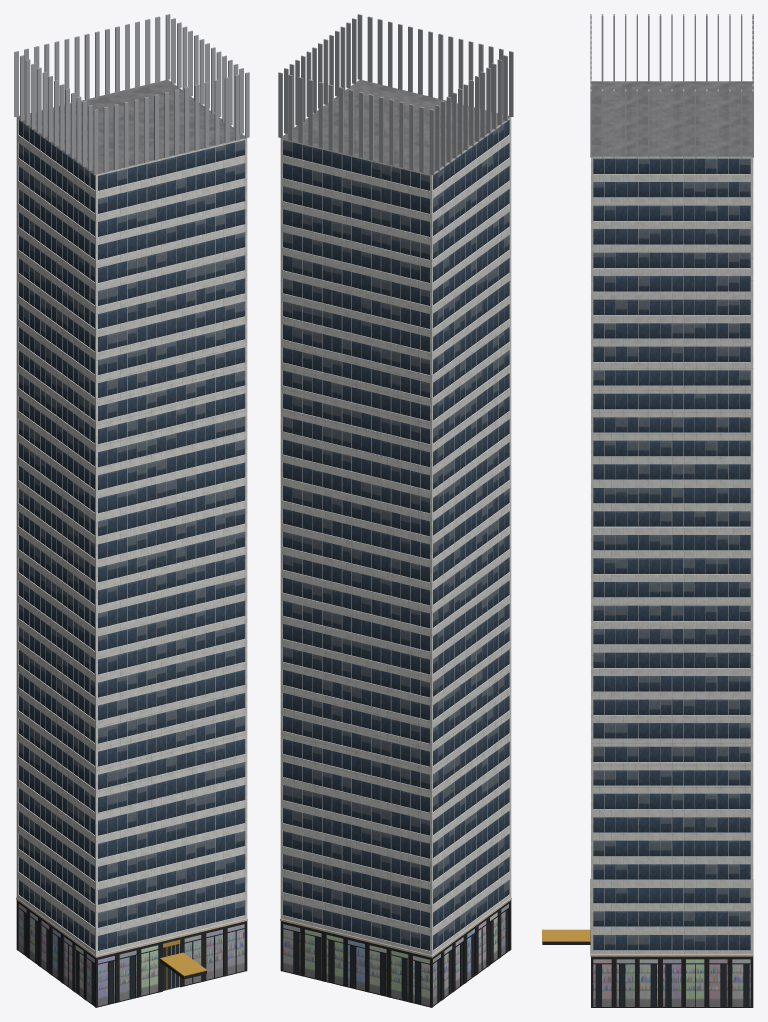
File: hd24_slender_hotel.gltf
The picture shows the model from 3 angles, left to right: view 1: azimuth 30°, elevation 25°; view 2: azimuth 150°, elevation 25°; view 3: azimuth 270°, elevation 25°; orthographic projection. The views are drawn at different scales.
Visible parts, largest first — view 1: hd24_slender_hotel_LOD0; view 2: hd24_slender_hotel_LOD0; view 3: hd24_slender_hotel_LOD0.
Part boxes in pixels (<box>): hd24_slender_hotel_LOD0: <box>14,14,249,1007</box>; hd24_slender_hotel_LOD0: <box>278,14,513,1007</box>; hd24_slender_hotel_LOD0: <box>542,14,753,1007</box>.
Size of what is drawn, in the model's own units: 22.6 by 125 by 26.11.
Materials: 10 (6 with a texture image).
